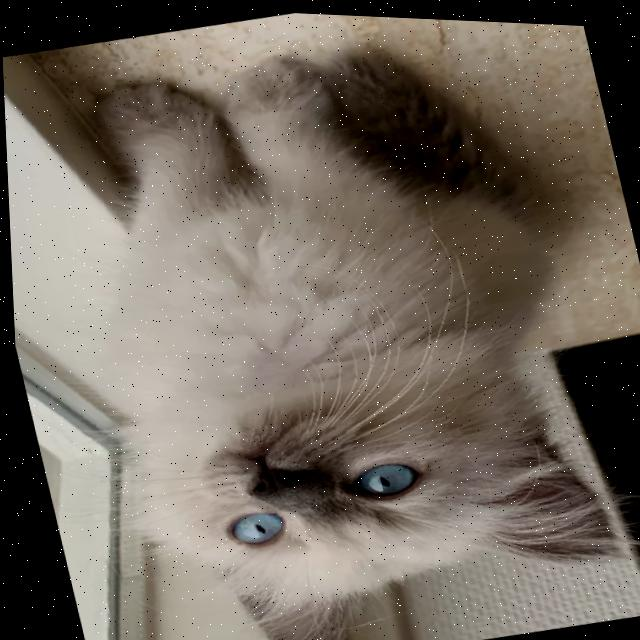Neva Masquerade: (5, 0, 640, 640)
